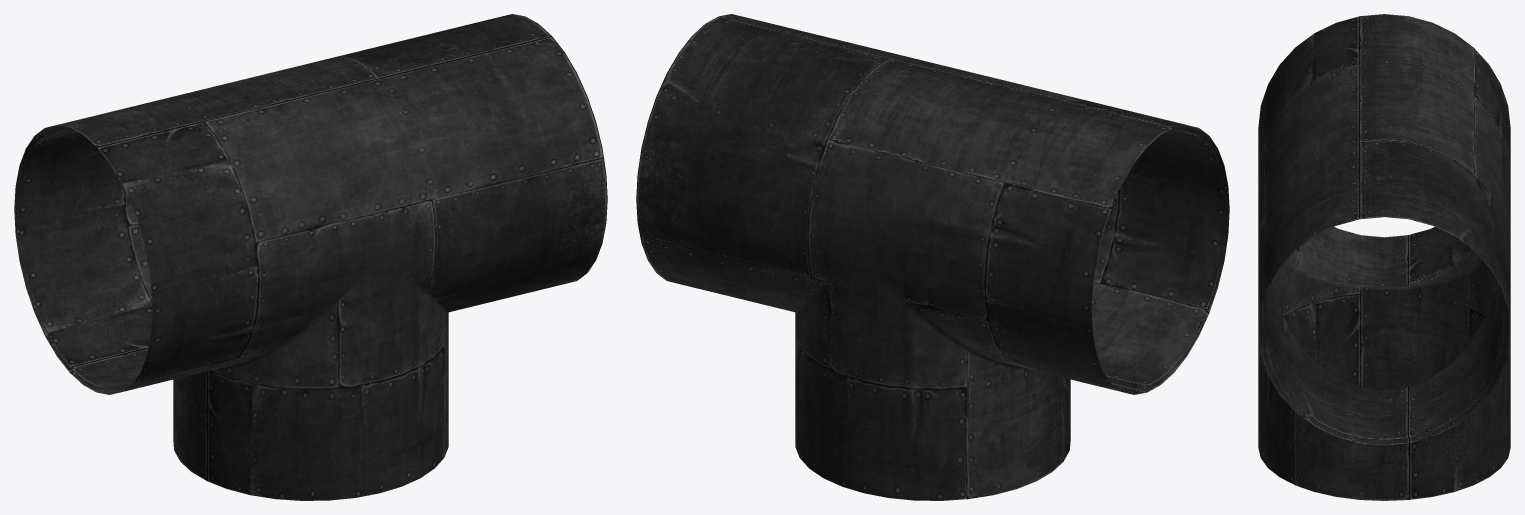
The model's file is engineroom_largepipe_tjunction.dae.
3 renders of one model, left to right at view 1: azimuth 30°, elevation 25°; view 2: azimuth 150°, elevation 25°; view 3: azimuth 270°, elevation 25°, orthographic. The views are drawn at different scales.
Visible parts, largest first — view 1: pipe_tjunction; view 2: pipe_tjunction; view 3: pipe_tjunction.
Boxes of the visible parts, x1,y1,x2,y2 form: pipe_tjunction: (14,14,607,500); pipe_tjunction: (636,14,1229,500); pipe_tjunction: (1258,14,1510,500).
Size of the model in its own units: 6 by 4.58 by 3.15.
1 material, 1 textured.
